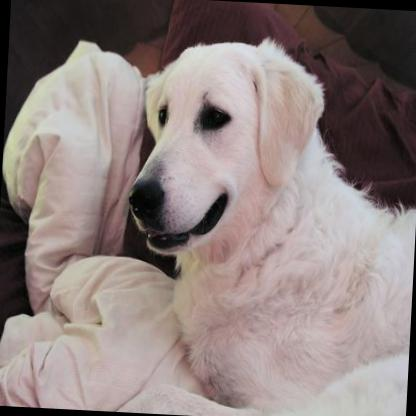kuvasz: (113, 27, 416, 416)
